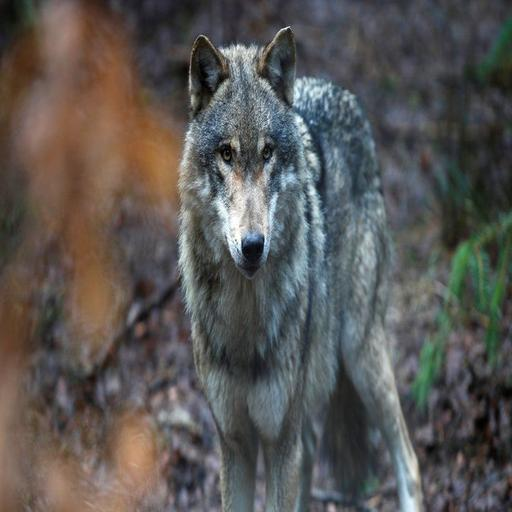Wolf: (176, 25, 423, 512)
